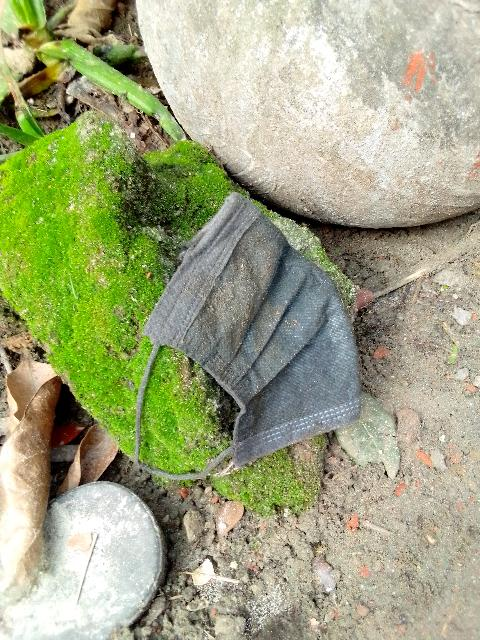mask: (154, 185, 367, 471)
